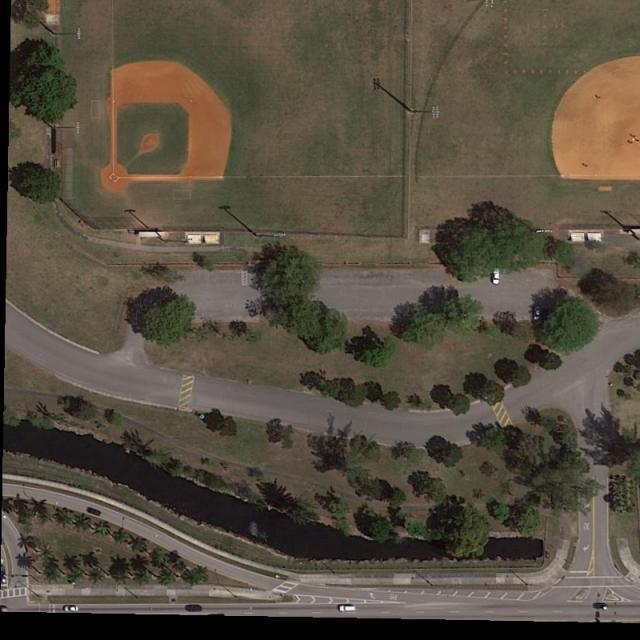vehicle: (185, 604, 204, 614), (86, 506, 102, 517), (493, 267, 502, 285), (593, 603, 610, 611), (339, 605, 356, 613), (534, 305, 542, 322), (63, 606, 78, 612)
